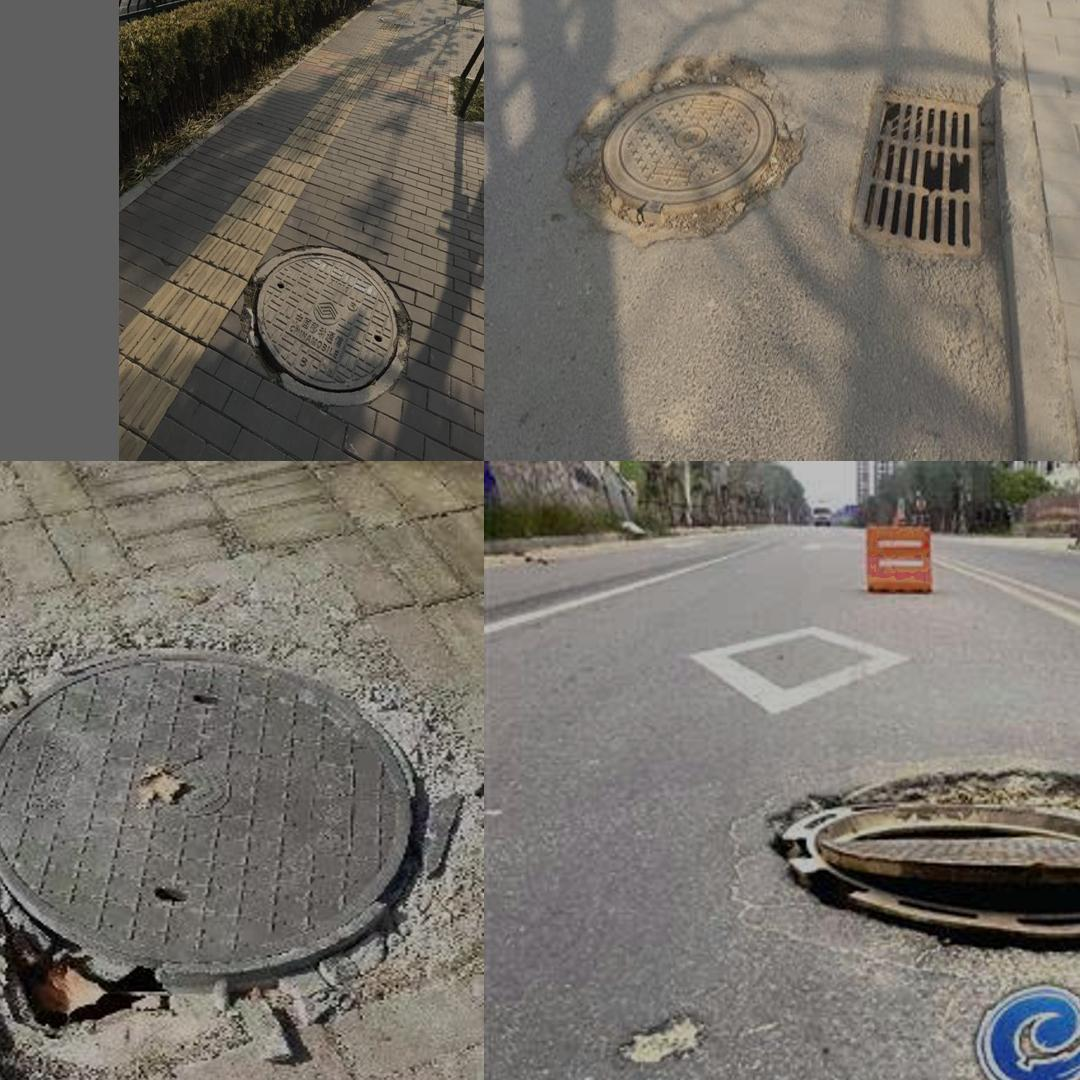circle: (0, 626, 484, 1021), (666, 748, 1080, 993), (564, 37, 812, 255), (241, 245, 413, 405)
